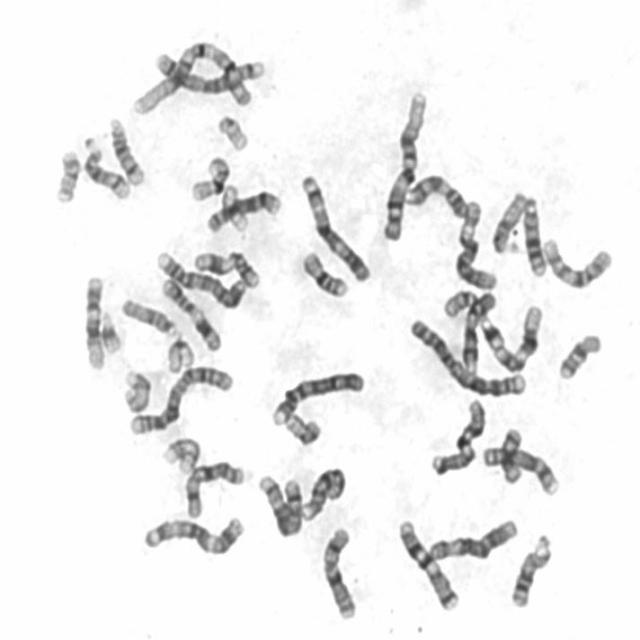A1: (143, 39, 258, 110), (378, 86, 429, 243)
A2: (406, 314, 530, 400), (124, 360, 236, 437)
A3: (296, 168, 373, 284), (138, 511, 246, 557)
B4: (266, 365, 368, 427), (152, 246, 248, 310)
B5: (148, 53, 274, 94), (252, 469, 306, 538)
C10: (536, 230, 614, 292), (292, 464, 352, 522)
C11: (156, 272, 223, 352), (189, 244, 262, 290)
C12: (496, 305, 546, 373), (78, 270, 107, 371)
C6: (424, 514, 520, 564), (451, 191, 499, 290)
C7: (394, 515, 461, 613), (426, 394, 487, 477)
C8: (477, 440, 562, 498), (201, 183, 283, 234)
C9: (459, 291, 505, 383), (404, 170, 474, 226)
D13: (506, 528, 555, 610), (518, 190, 549, 278)
D14: (78, 134, 132, 202), (104, 112, 146, 187)
D15: (488, 187, 530, 256), (116, 293, 180, 338)
E16: (296, 246, 351, 300), (185, 150, 232, 203)
E17: (158, 433, 202, 476), (119, 364, 152, 415)
E18: (554, 328, 604, 382), (497, 424, 524, 484)
F19: (217, 178, 251, 234), (162, 333, 196, 374)
F20: (49, 144, 82, 204), (280, 409, 322, 447)
G21: (94, 304, 124, 355), (478, 312, 506, 352)
G22: (212, 109, 251, 152), (439, 286, 482, 318)
X: (180, 454, 247, 521), (317, 521, 359, 621)
